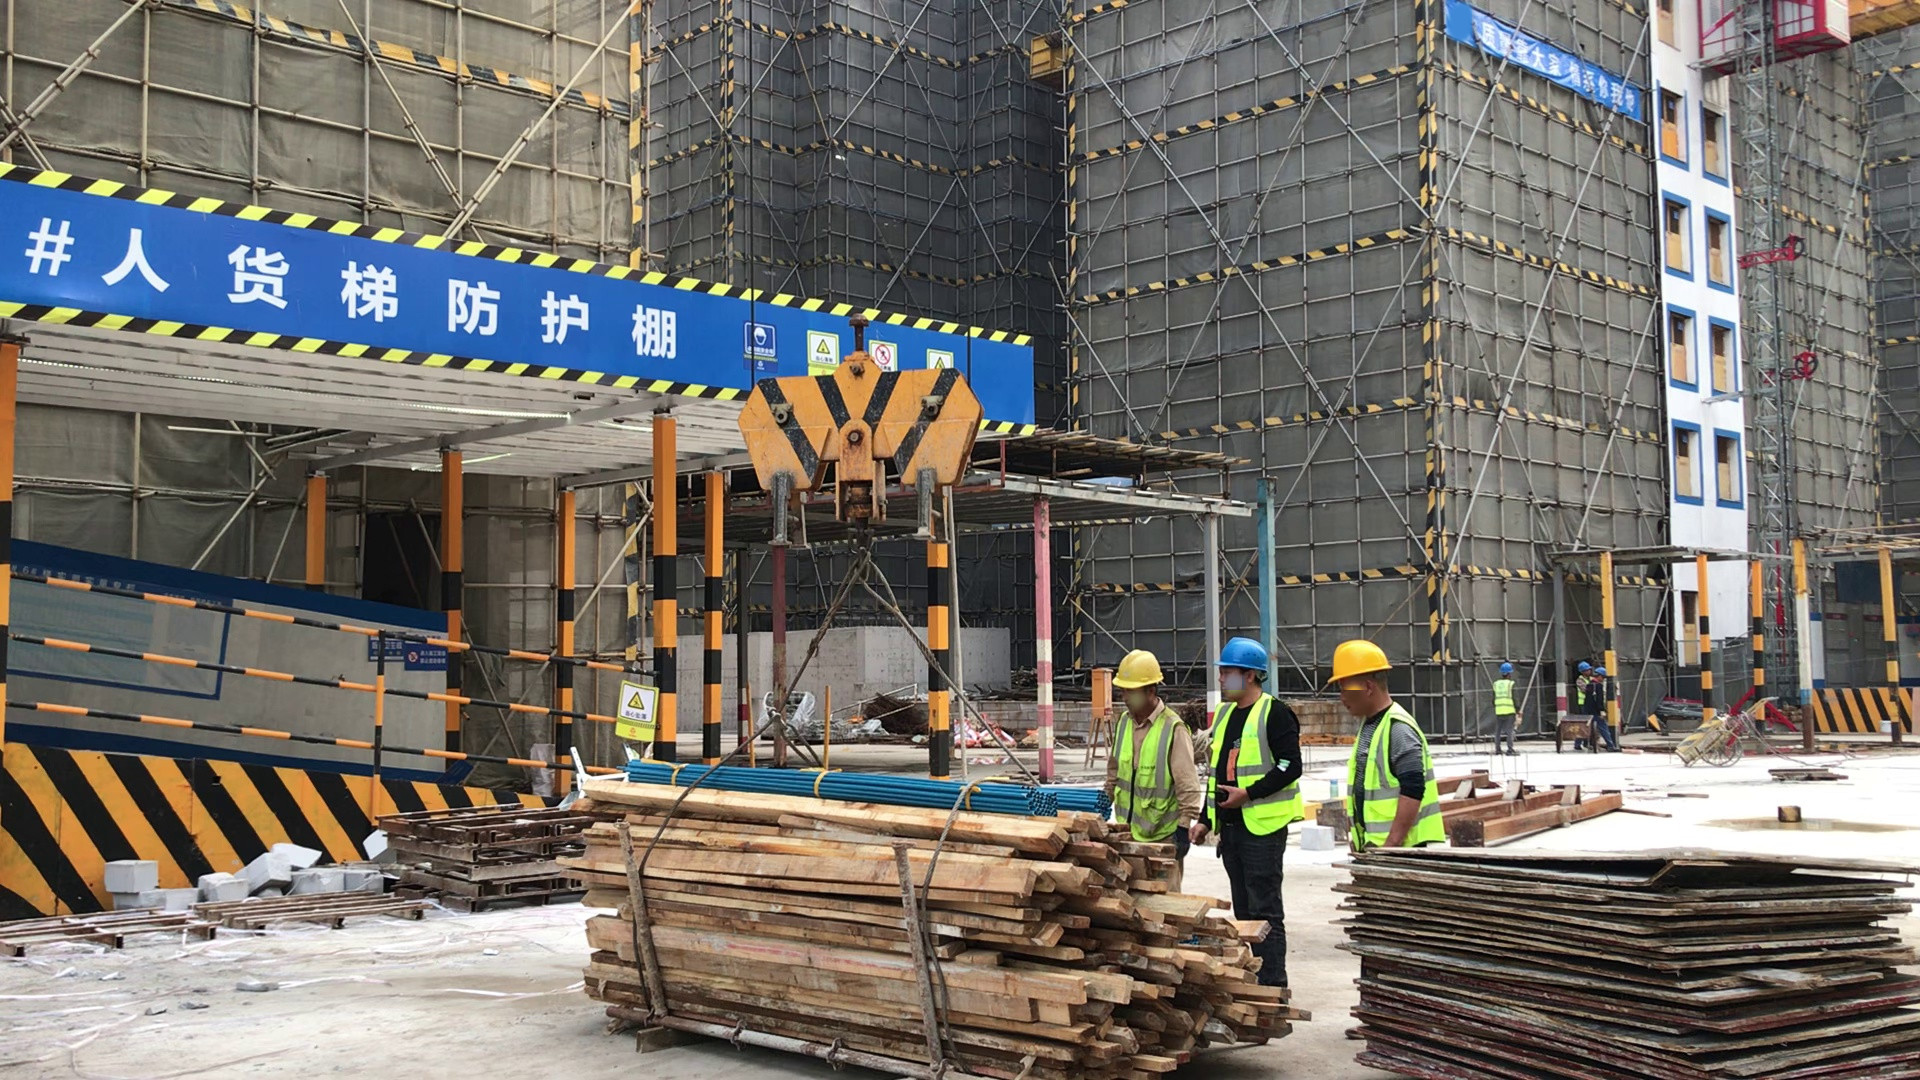board: (1326, 842, 1912, 1080)
handcart: (1669, 701, 1769, 765)
helmet: (1327, 639, 1392, 683), (1112, 648, 1164, 687), (1214, 637, 1273, 672), (1498, 662, 1512, 673), (1577, 661, 1591, 670), (1594, 667, 1608, 677)
hook: (734, 352, 985, 532)
person: (1197, 635, 1308, 998), (1323, 638, 1449, 858), (1100, 646, 1208, 874), (1486, 657, 1526, 763), (1587, 666, 1608, 752), (1573, 660, 1592, 717)
slogan: (1435, 1, 1640, 119)
vest: (1349, 710, 1447, 858), (1207, 699, 1298, 837), (1111, 699, 1177, 845), (1492, 678, 1516, 719)
wood: (571, 774, 1309, 1080)
